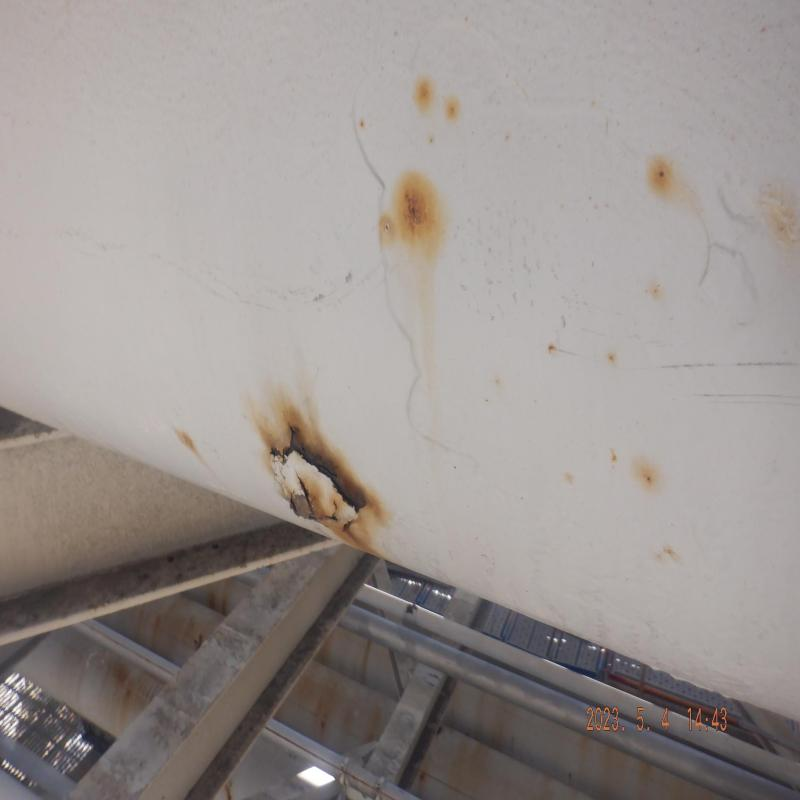Fracture: (287, 443, 368, 521)
